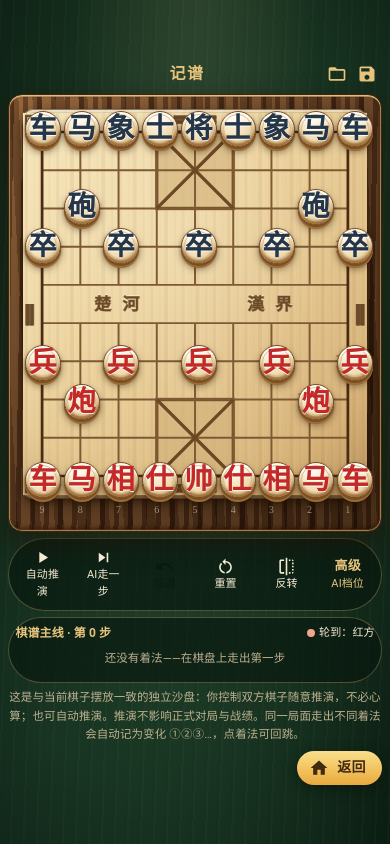
功能 C：举一反三自查项 › 「我的棋谱」删除需二次确认：先出现确认按钮，确认后才真删
The width and height of the screenshot is (390, 844).
Click the button with test id "notation-open" at (337, 74), box x1=322 y1=59 x2=352 y2=89
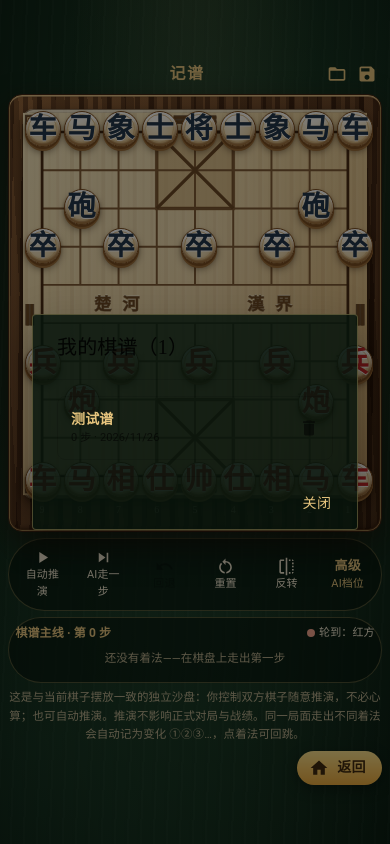
Expected: the text "测试谱" is shown, x1=71 y1=411 x2=113 y2=427
# 第一下只进入确认态，不真删
Click the button named "删除测试谱" at (309, 428), box x1=294 y1=413 x2=324 y2=443
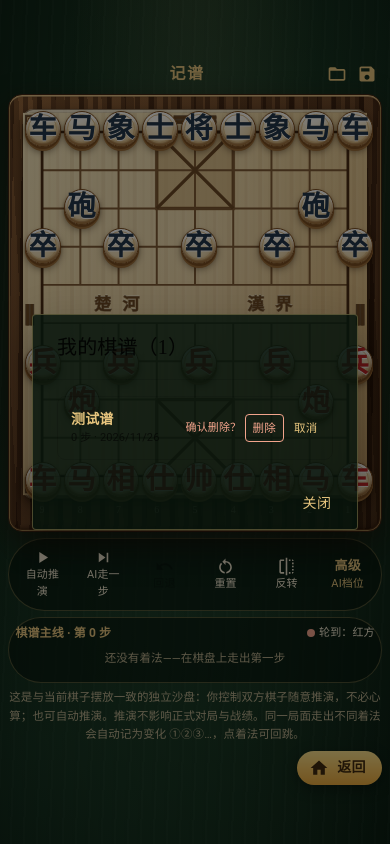
Expected: the text "测试谱" is shown, x1=71 y1=411 x2=113 y2=427
Expected: the text "确认删除？" is shown, x1=186 y1=420 x2=241 y2=436
Click the button with test id "notation-confirm-delete" at (264, 428), box x1=245 y1=414 x2=284 y2=442
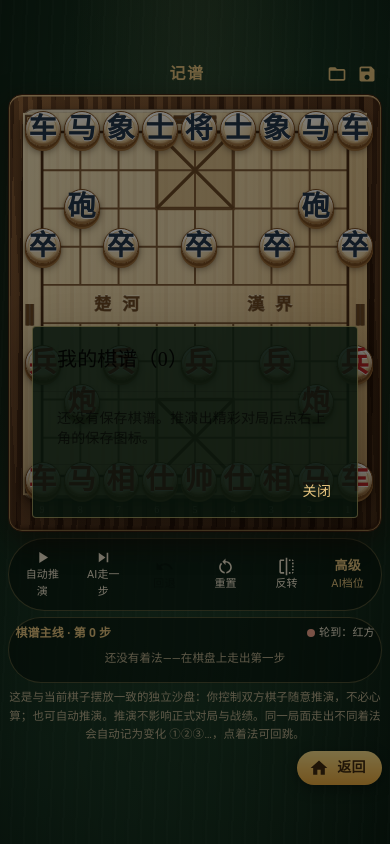
Expected: the button "测试谱" is gone
